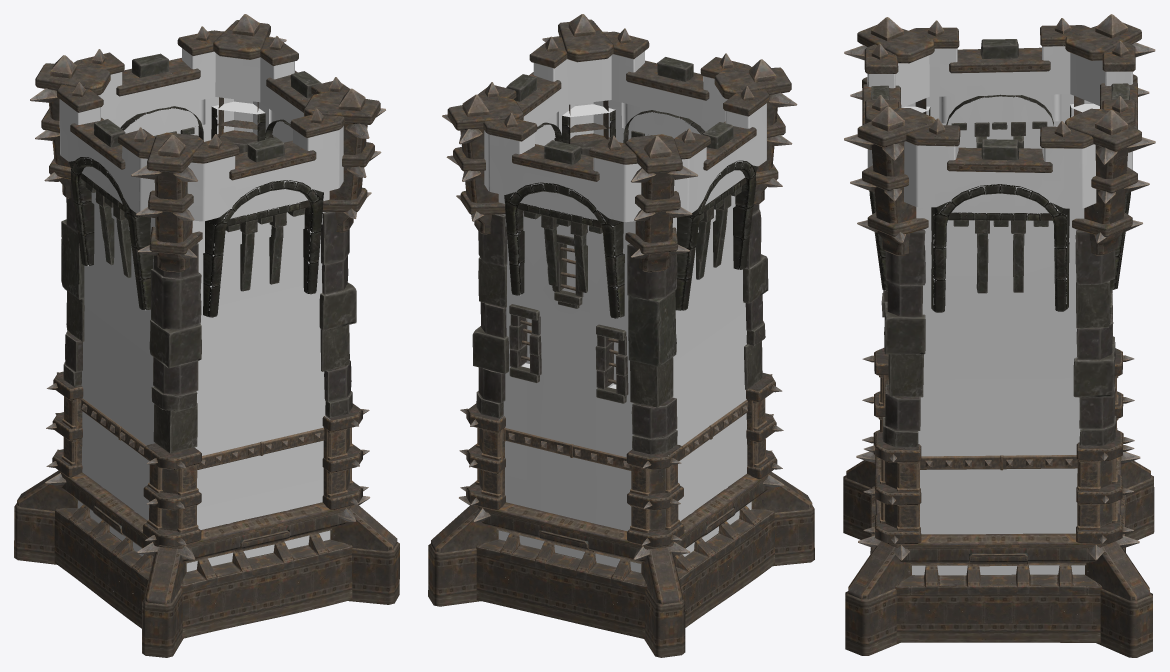
3 renders of one model, left to right at view 1: azimuth 30°, elevation 25°; view 2: azimuth 150°, elevation 25°; view 3: azimuth 270°, elevation 25°, orthographic. The views are drawn at different scales.
Parts seen in each view (by area): view 1: SM_DR_Gateway_Sides_Lower_LOD0; view 2: SM_DR_Gateway_Sides_Lower_LOD0; view 3: SM_DR_Gateway_Sides_Lower_LOD0.
Part boxes in pixels (left/top/right/bottom): SM_DR_Gateway_Sides_Lower_LOD0: left=14, top=14, right=399, bottom=657; SM_DR_Gateway_Sides_Lower_LOD0: left=428, top=14, right=814, bottom=657; SM_DR_Gateway_Sides_Lower_LOD0: left=843, top=14, right=1155, bottom=657.
Size of the model in its own units: 8.75 by 16.45 by 8.75.
5 materials, 4 textured.
